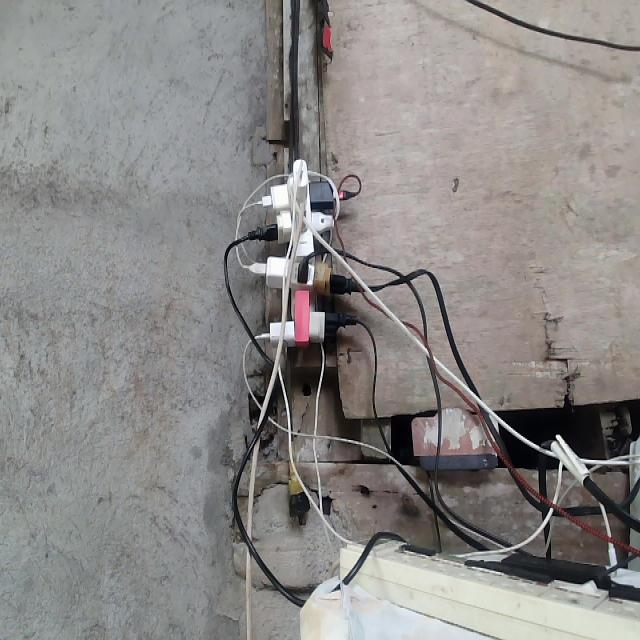-: (251, 156, 357, 347)
